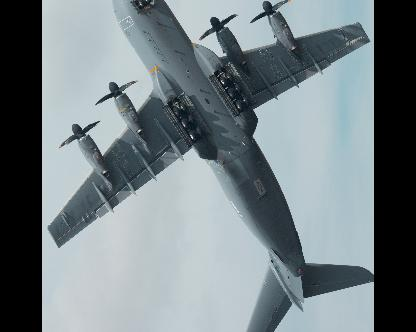A400M: (46, 0, 374, 331)
